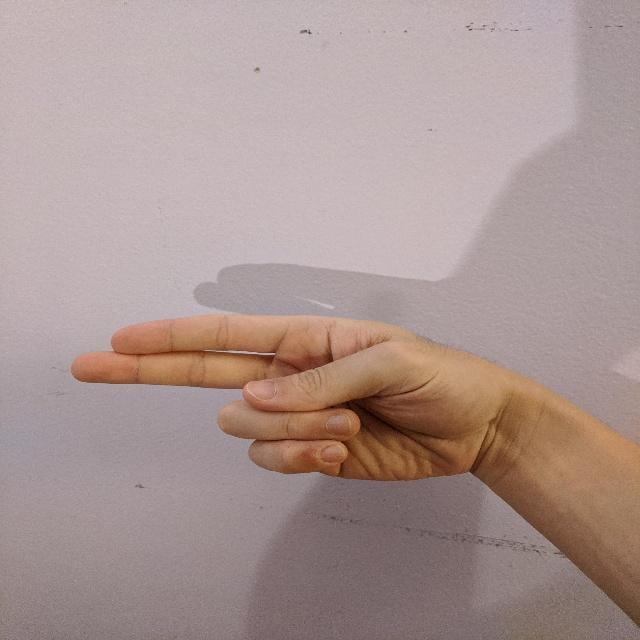H: (65, 307, 505, 487)
